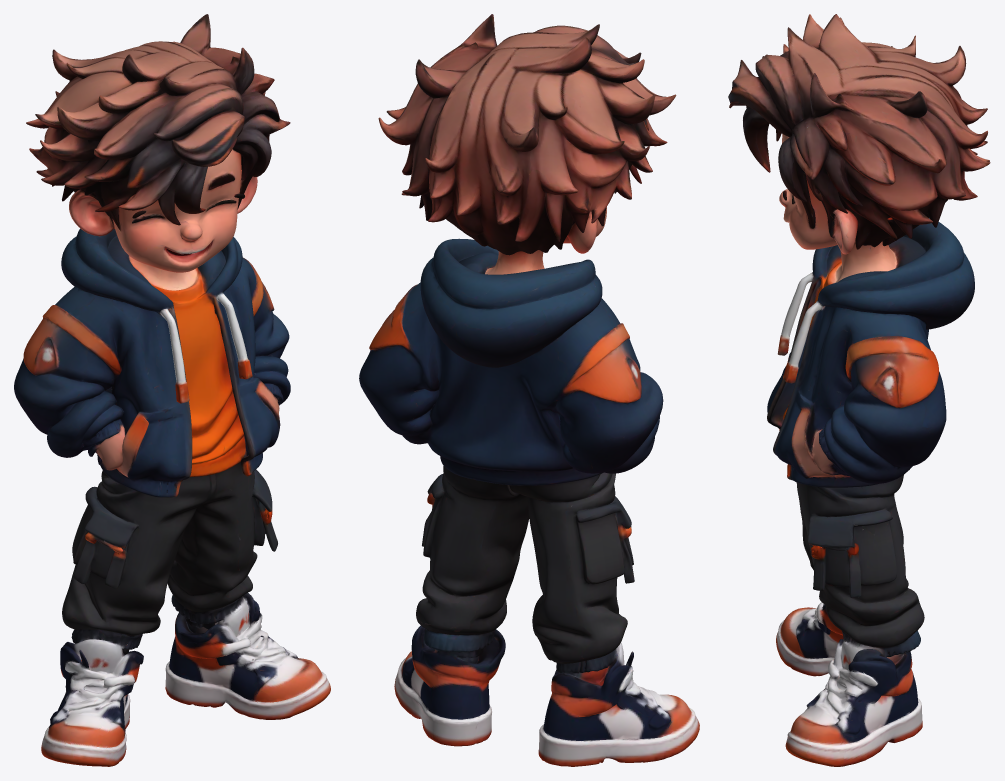
The model's file is mascot.glb.
The picture shows the model from 3 angles, left to right: view 1: azimuth 30°, elevation 25°; view 2: azimuth 150°, elevation 25°; view 3: azimuth 270°, elevation 25°; orthographic projection. The views are drawn at different scales.
Visible parts, largest first — view 1: world; view 2: world; view 3: world.
Part boxes in pixels (left/top/right/bottom): world: left=14, top=14, right=330, bottom=766; world: left=359, top=14, right=699, bottom=766; world: left=728, top=14, right=990, bottom=766.
Size of the model in its own units: 0.431 by 0.9997 by 0.3548.
Materials: 1 (1 with a texture image).
